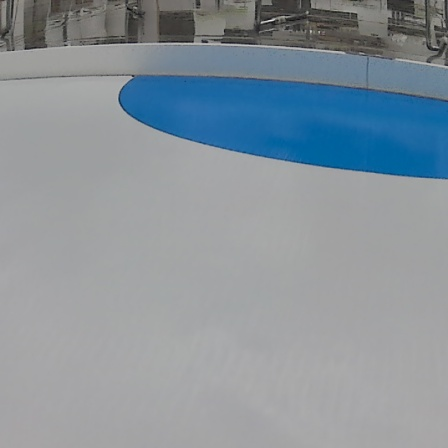blue_base: (116, 71, 448, 183)
